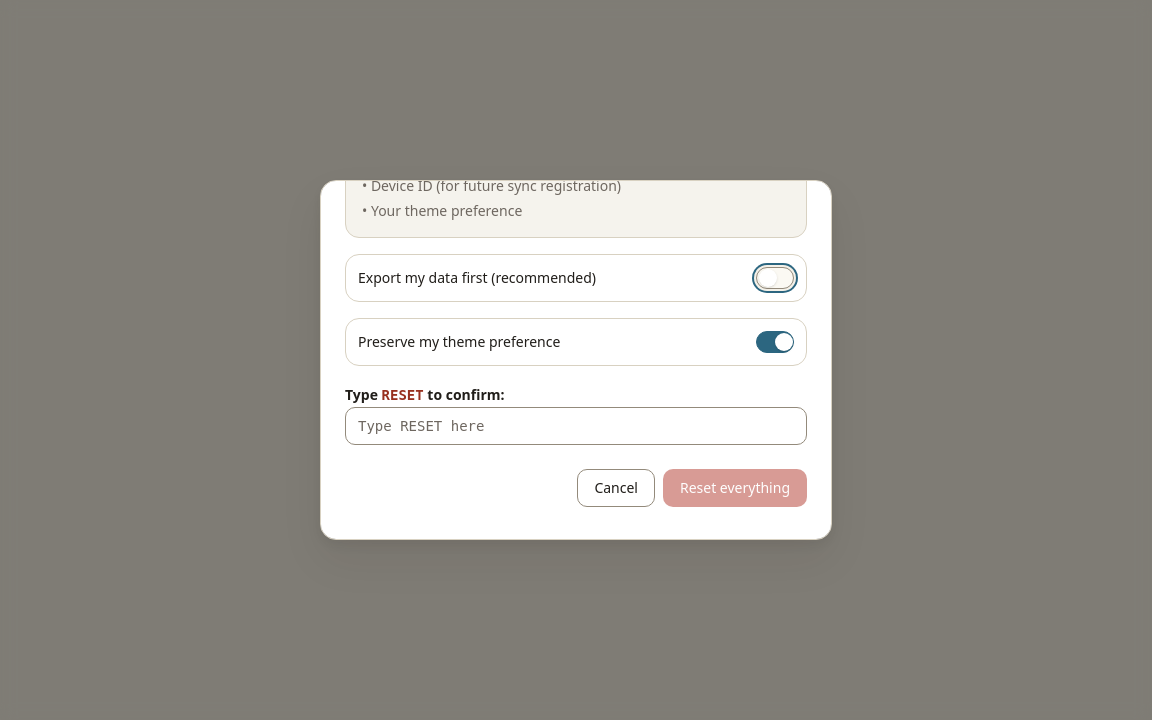
Test: ResetEverythingDialog › disables reset button until RESET is typed
(page scrolled)
expect the button "Reset everything" is disabled: met, box [663,469,807,507]
Type "RESET" into the field with placeholder "Type RESET here" at (576, 426), box [345,407,807,445]
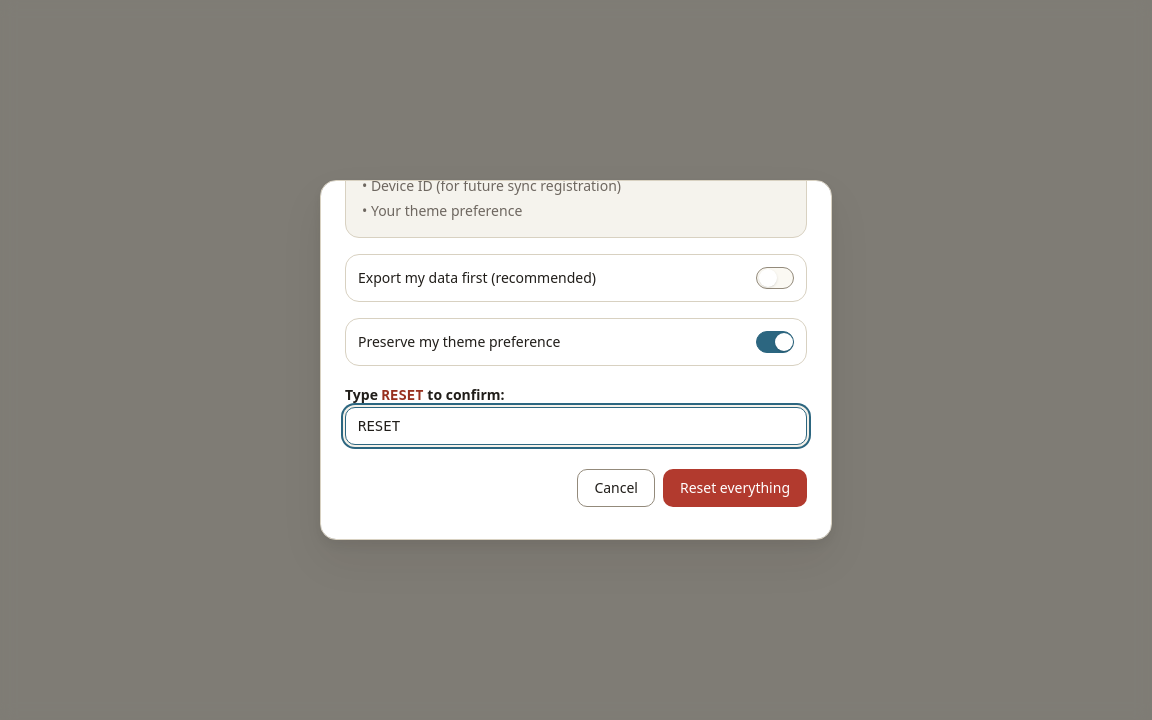
expect the button "Reset everything" is enabled: met, box [663,469,807,507]
